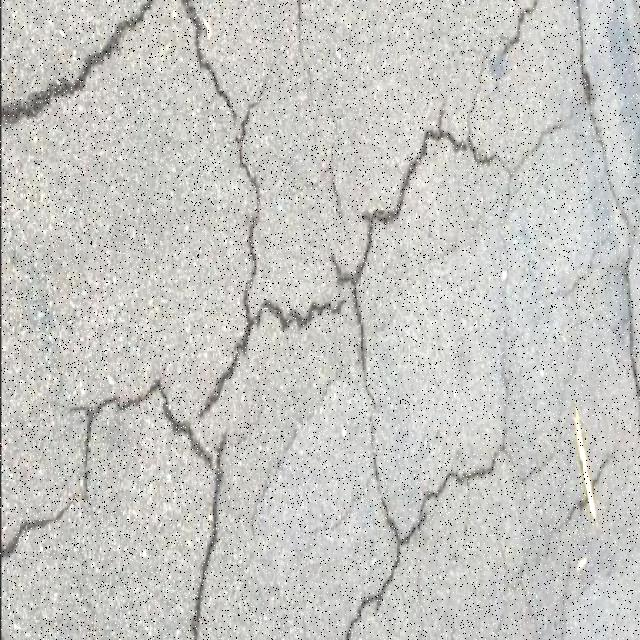Crack: (328, 111, 540, 430), (69, 380, 231, 640), (197, 185, 345, 420), (344, 429, 508, 640), (0, 0, 152, 125), (571, 0, 617, 209), (179, 0, 233, 118), (0, 494, 78, 557), (619, 212, 640, 435), (496, 0, 538, 55), (579, 231, 611, 275), (349, 468, 378, 505), (323, 146, 336, 211), (588, 460, 606, 494)
